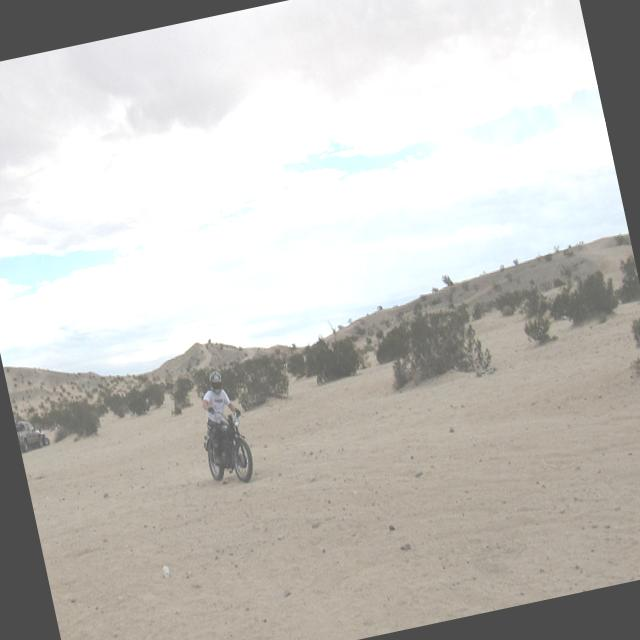Vehicle: (196, 406, 258, 489)
